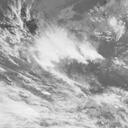cyclone: (34, 27, 103, 88)
